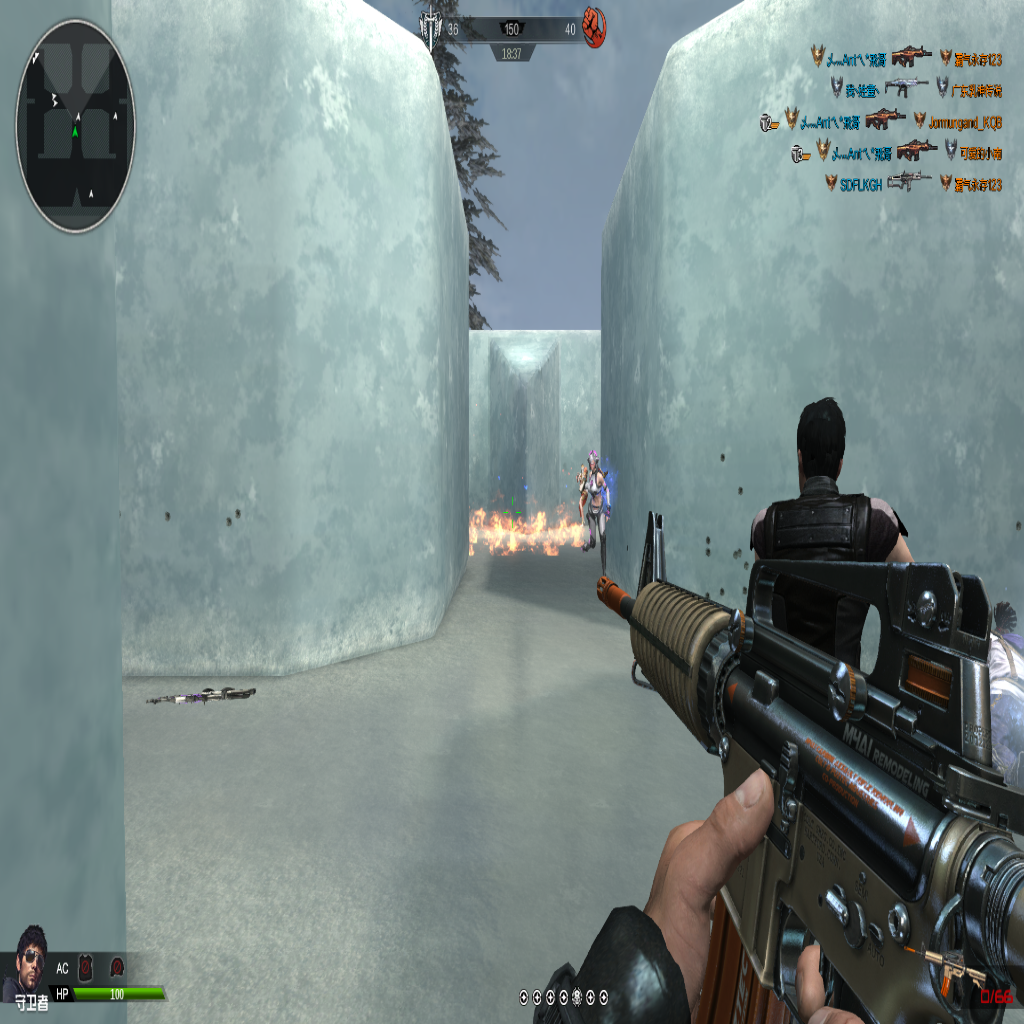ct: (754, 394, 923, 693)
tt: (579, 449, 611, 554)
